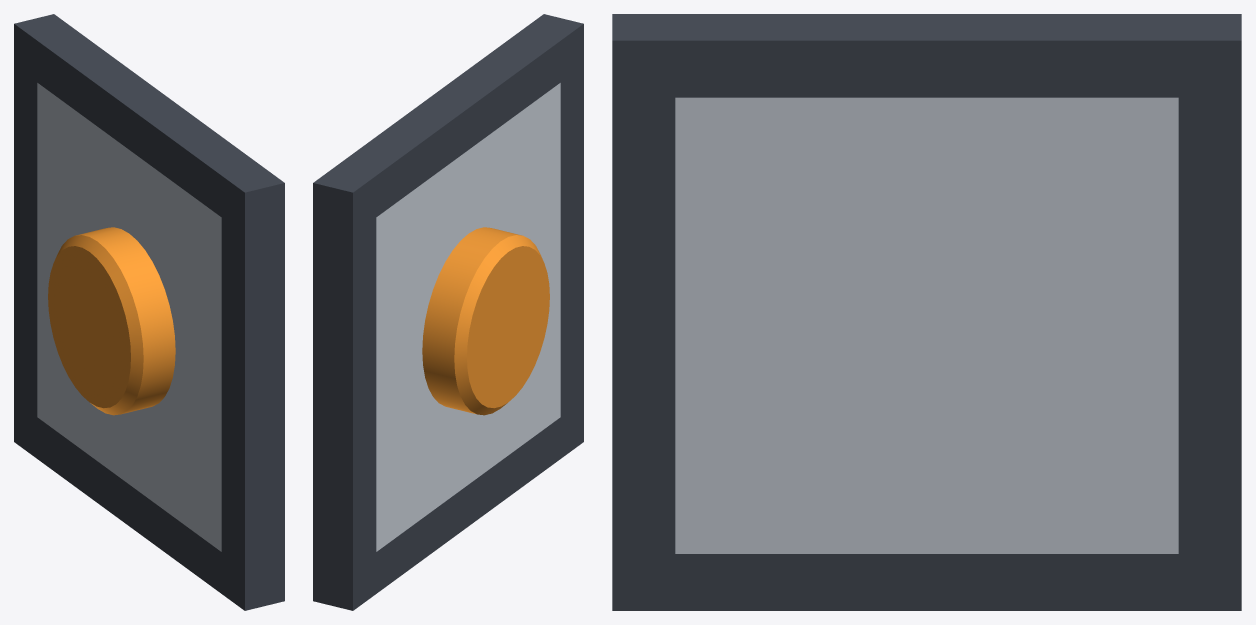
Rendered from Button.fbx.
3 views of the same model, side by side, from view 1: azimuth 30°, elevation 25°; view 2: azimuth 150°, elevation 25°; view 3: azimuth 270°, elevation 25° (orthographic). The views are drawn at different scales.
Parts seen in each view (by area): view 1: Cube, Cylindre; view 2: Cube, Cylindre; view 3: Cube.
Part boxes in pixels (x1,y1,x2,y2): Cube: [14, 14, 284, 610]; Cylindre: [48, 227, 175, 415]; Cube: [313, 14, 583, 610]; Cylindre: [422, 227, 549, 415]; Cube: [612, 14, 1241, 610].
Size of the model in its own units: 10 by 50 by 50.
